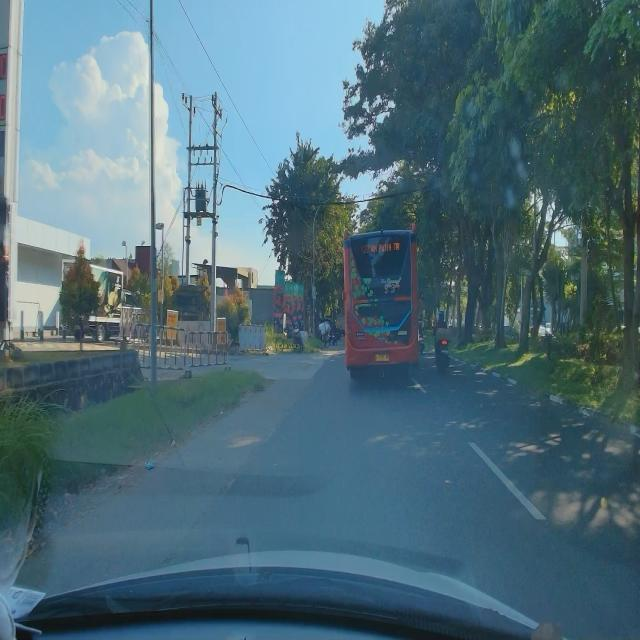bus: (342, 222, 419, 384)
license-plate: (375, 353, 390, 363)
